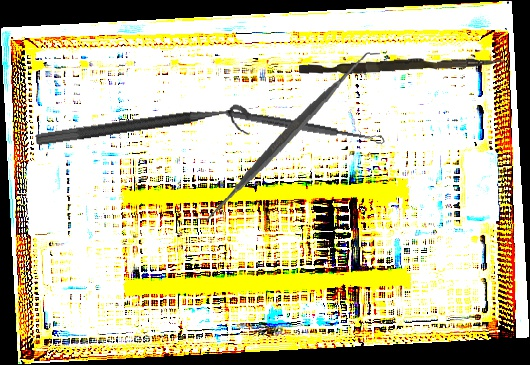Fixation Ring: (34, 101, 256, 165)
Pusher: (298, 50, 505, 80)
Spatula Surgical: (195, 40, 381, 232)
Surgical Spoon: (224, 108, 386, 146)
